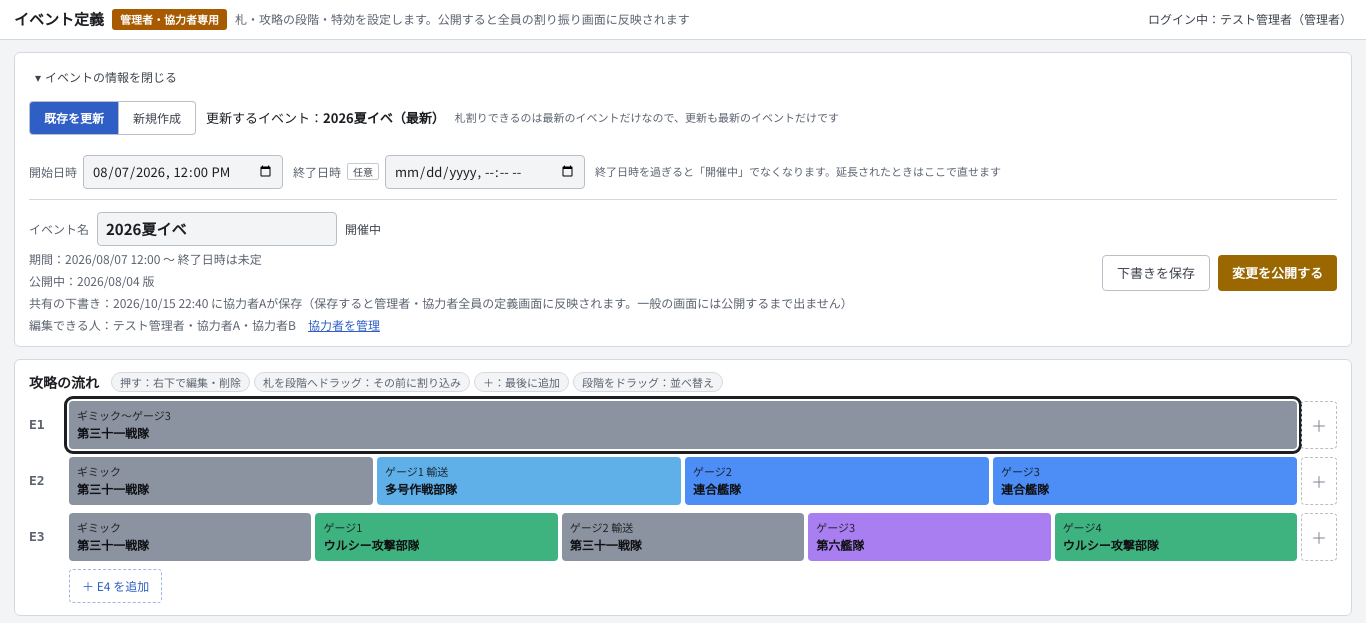
Test: イベント定義の画面（PlanEditor）：PR-11b のレビュー・Codex の指摘の直し方（PR-11c） › 1. 確認のウィンドウが出ている間は、既存を更新／新規作成を切り替えられない（レビュー M1・Codex 4301057821） › 確認のウィンドウが出ている間は「既存を更新」「新規作成」を押せず、切り替えられない理由を出す
The image size is (1366, 623).
Expected: the element "攻略の流れ" is shown, [14,358,1352,616]
What coordinates should you click on to do the following:
click the button "ゲージ3 連合艦隊"
I would click on:
 (1020, 470)
Its box is [993,456,1297,504].
(page scrolled)
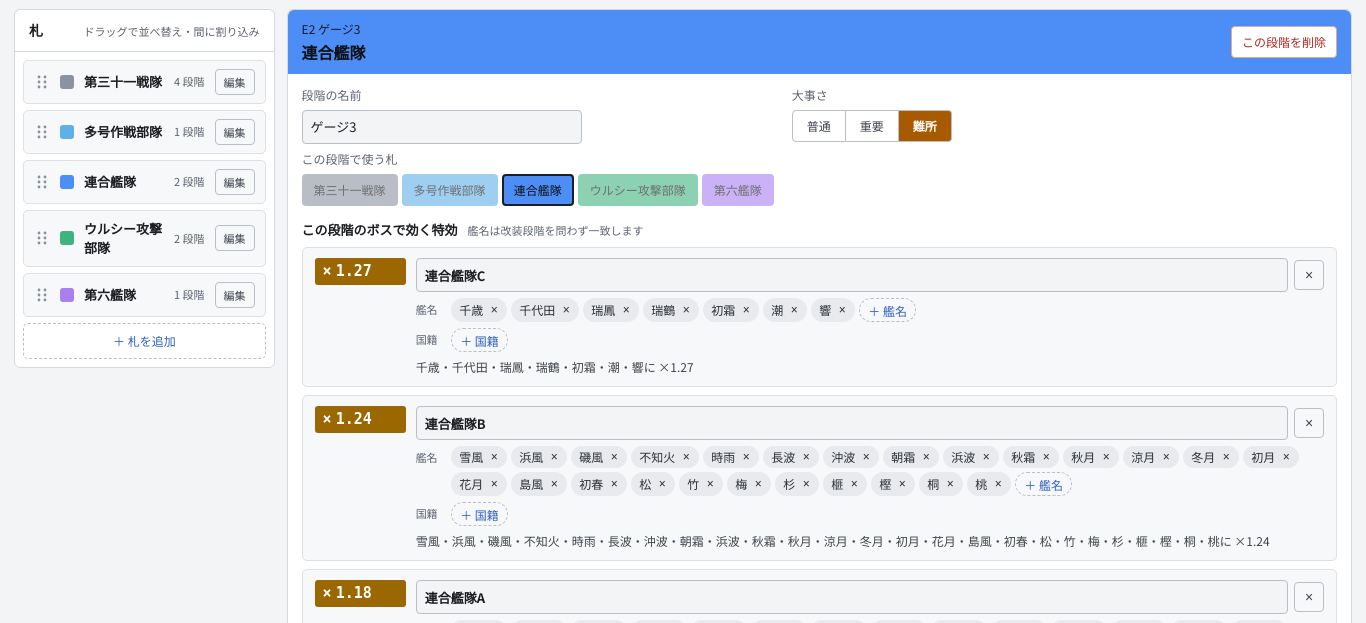
What coordinates should you click on to do the following:
click the button "普通"
I would click on:
 (819, 126)
Its box is [792,110,846,142].
(page scrolled)
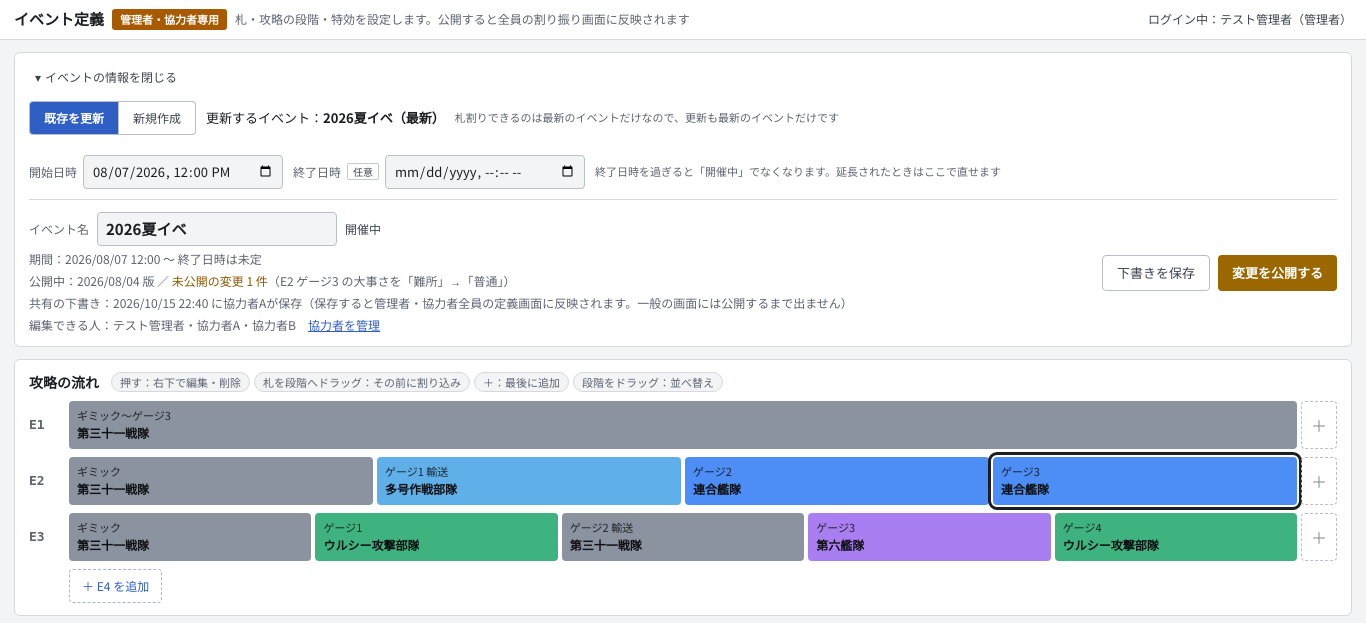
What coordinates should you click on to do the following:
click the button "下書きを保存"
I would click on:
 (1156, 272)
Its box is [1102,254,1210,290].
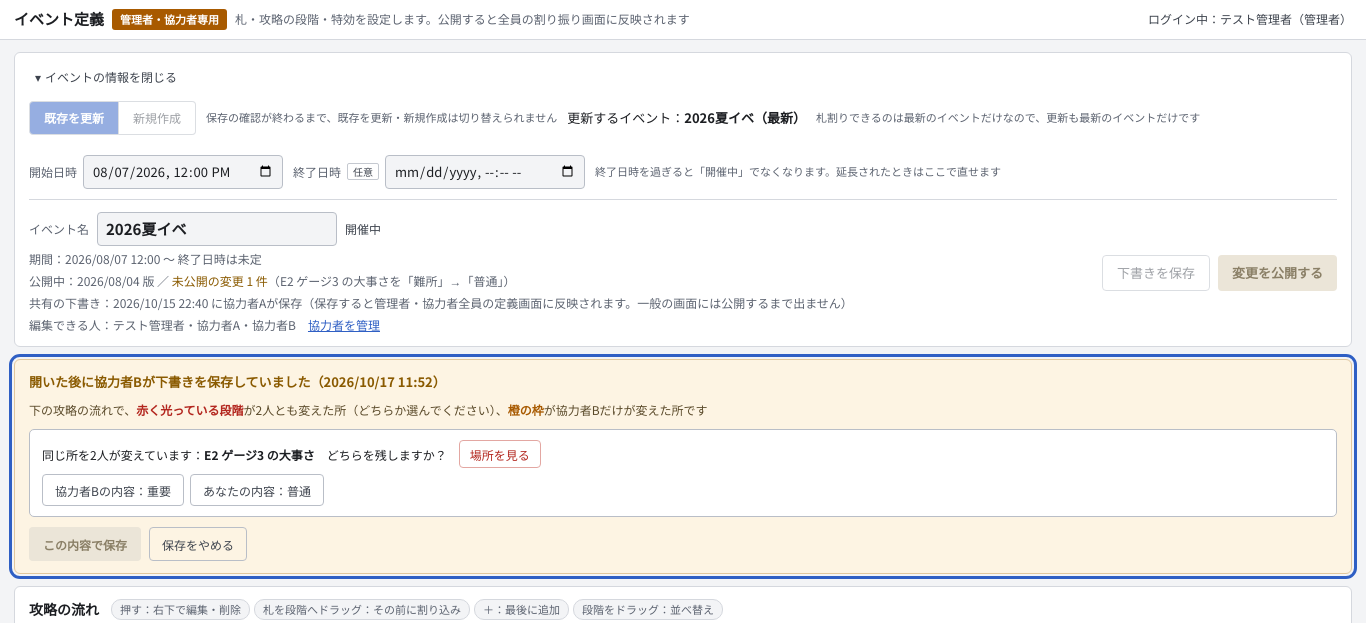
Expected: the radio button labelled "新規作成" is disabled, [119,100,196,134]
Expected: the radio button labelled "既存を更新" is disabled, [29,100,119,134]
